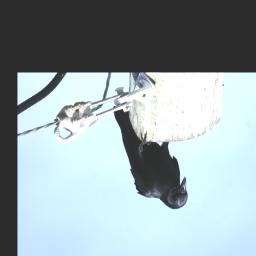Crow: (113, 104, 189, 210)
